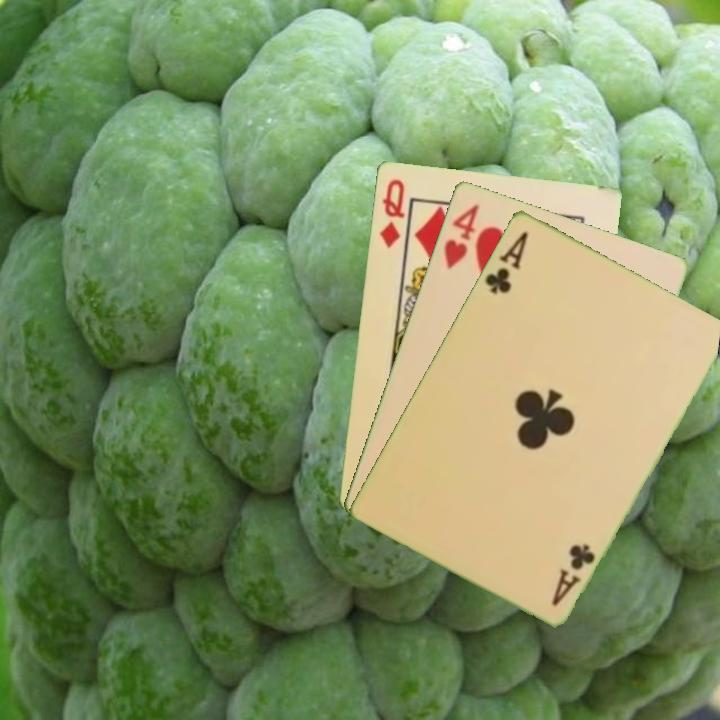4h: (440, 199, 482, 272)
Ac: (547, 539, 598, 609), (481, 227, 531, 297)
Qd: (376, 175, 407, 250)
